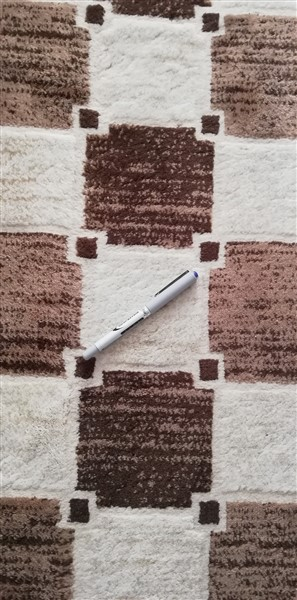pilot kalem: (77, 266, 204, 366)
